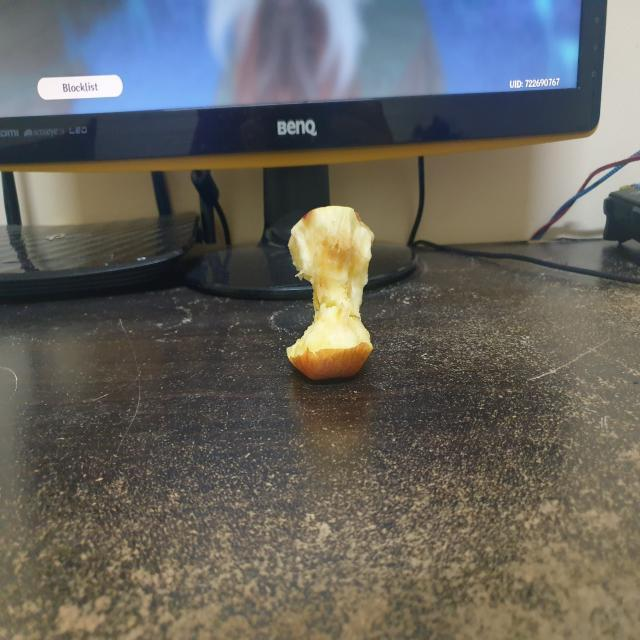apple: (281, 204, 378, 382)
